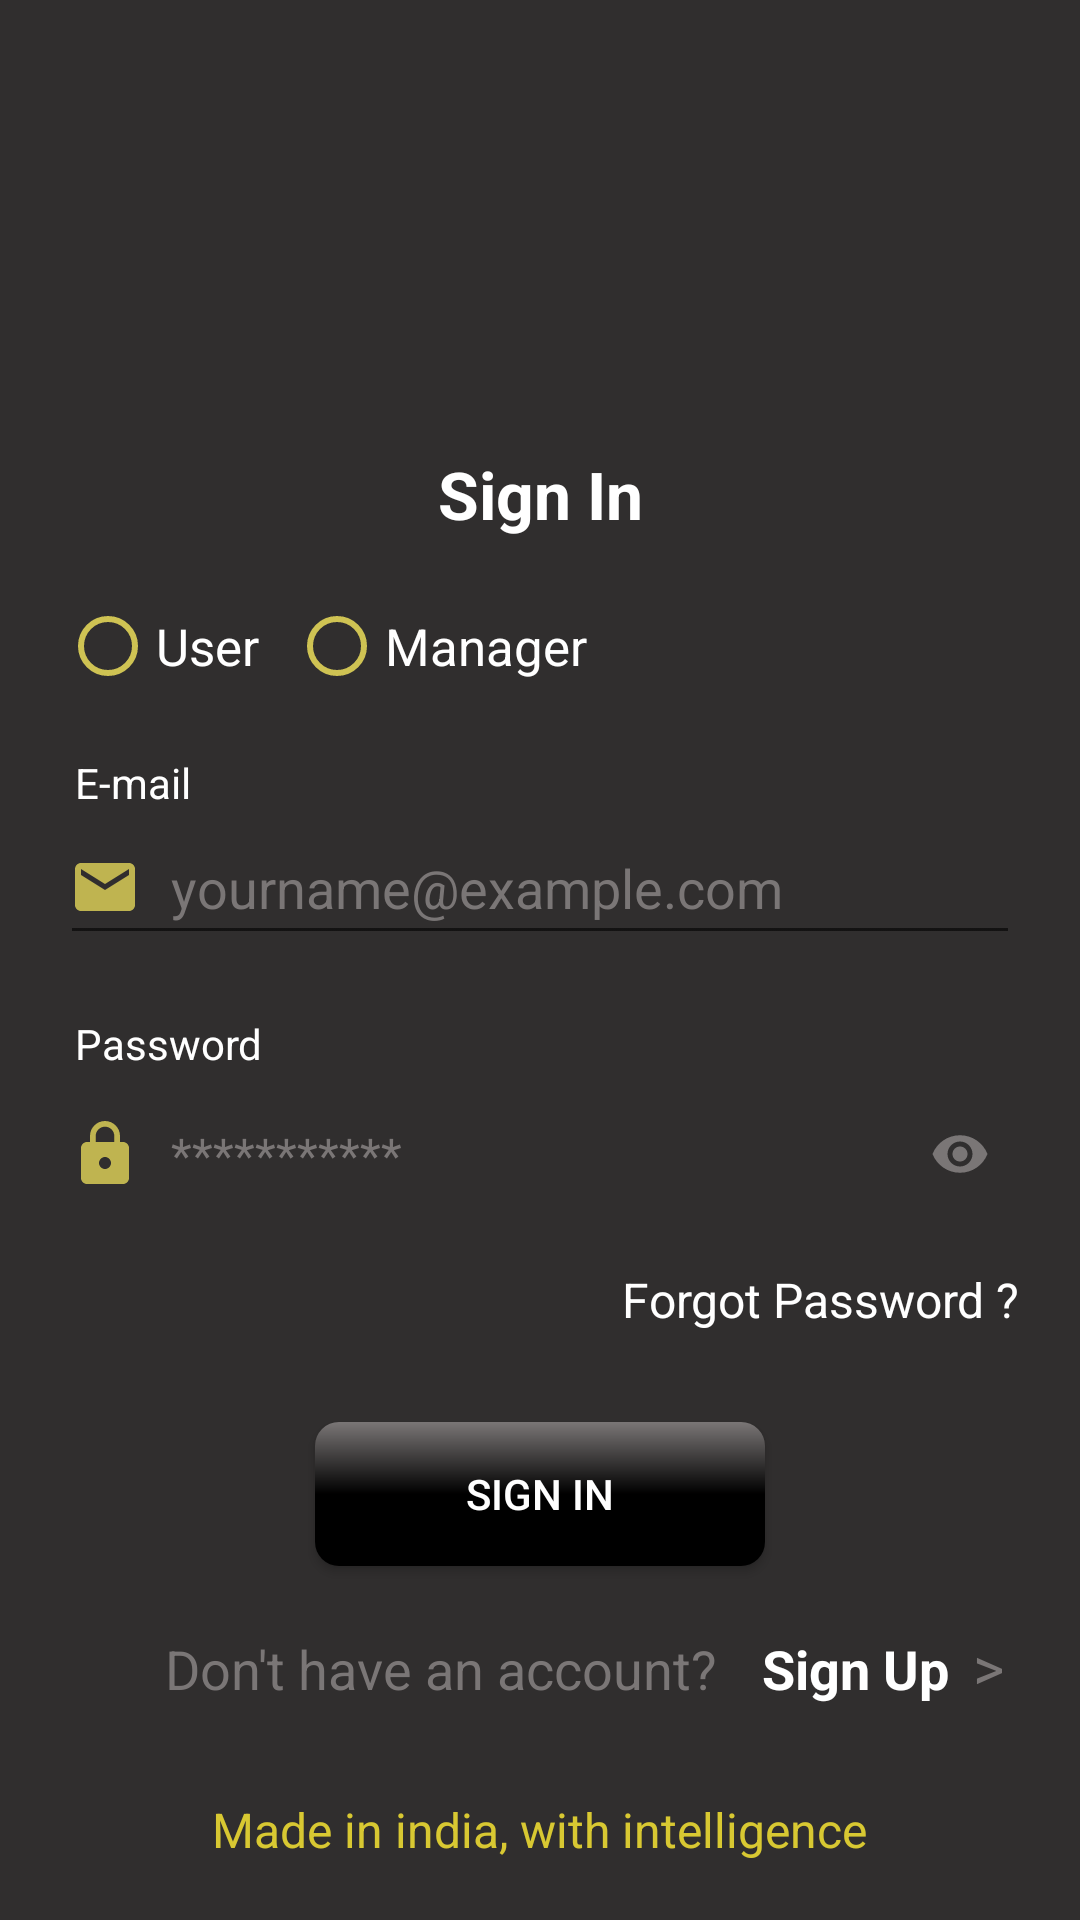

Point at icon controls on the screen. Image size 1080 × 1920, points as (x=x, y=y).
password show: (x=960, y=1154)
